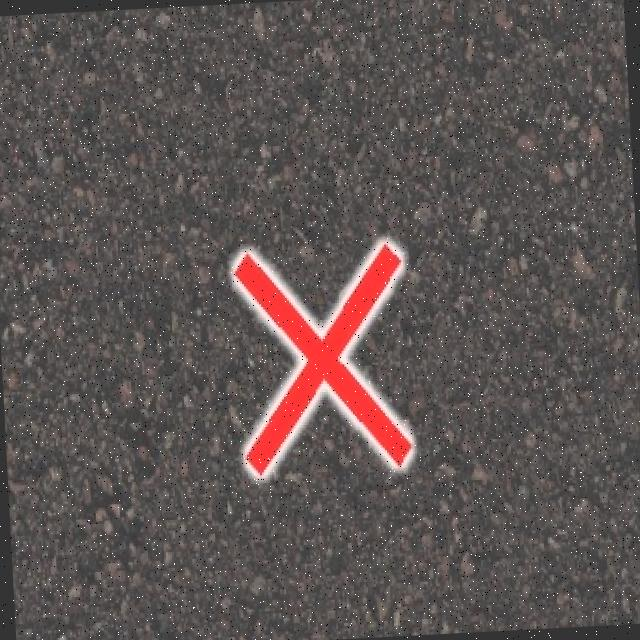x_marker: (234, 242, 411, 474)
